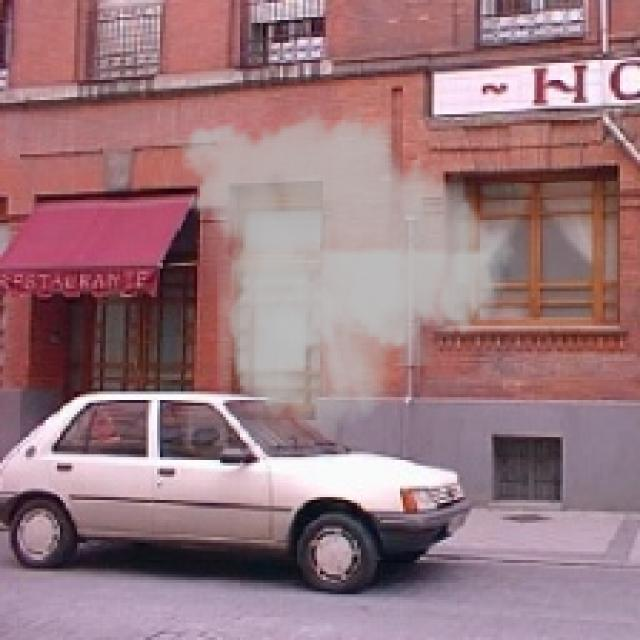smoke: (163, 100, 526, 446)
